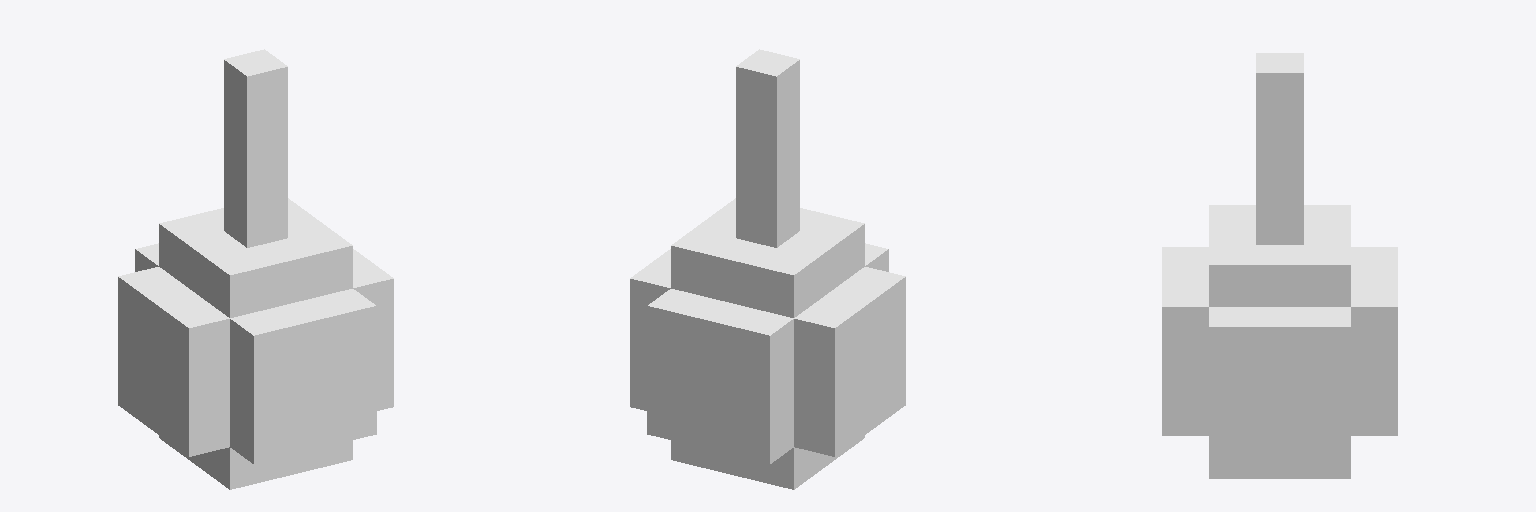
File: flask1.obj
3 renders of one model, left to right at view 1: azimuth 30°, elevation 25°; view 2: azimuth 150°, elevation 25°; view 3: azimuth 270°, elevation 25°, orthographic.
Size of the model in its own units: 5 by 9 by 5.